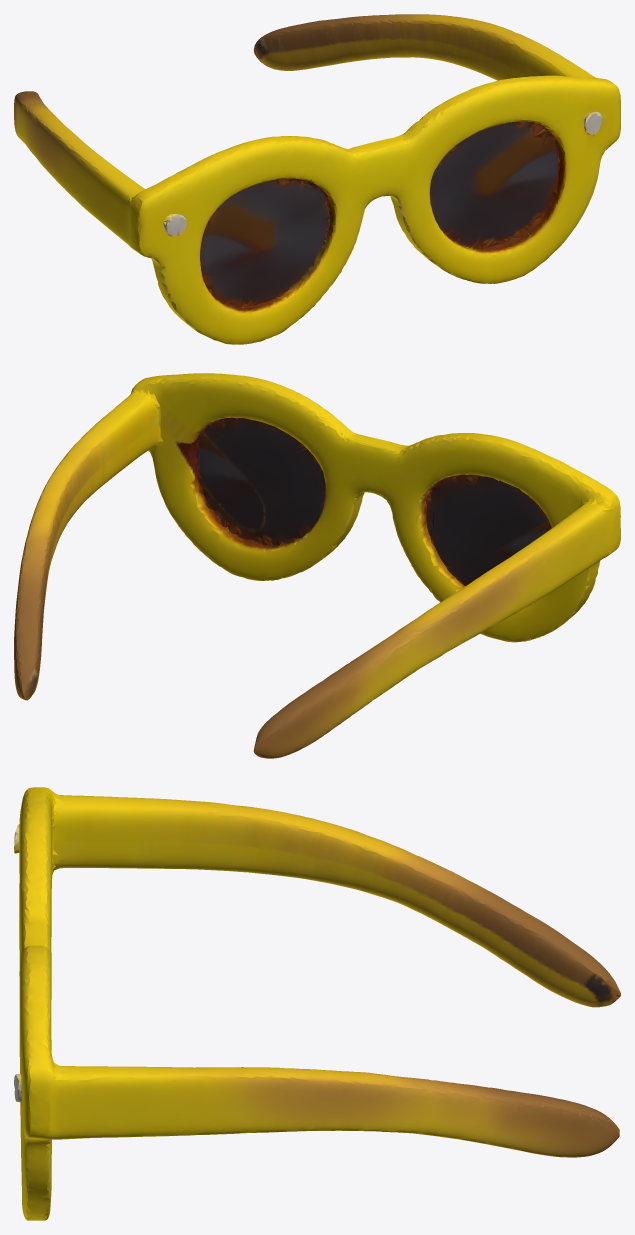
Rendered from glasses_yellow_hyper3d.glb.
The picture shows the model from 3 angles, top to bottom: view 1: azimuth 30°, elevation 25°; view 2: azimuth 150°, elevation 25°; view 3: azimuth 270°, elevation 25°; orthographic projection. The views are drawn at different scales.
Parts seen in each view (by area): view 1: GlassesYellow_Hyper3D; view 2: GlassesYellow_Hyper3D; view 3: GlassesYellow_Hyper3D.
Part boxes in pixels (x1=…): GlassesYellow_Hyper3D: x1=14, y1=14, x2=620, y2=344; GlassesYellow_Hyper3D: x1=14, y1=373, x2=620, y2=758; GlassesYellow_Hyper3D: x1=14, y1=787, x2=620, y2=1220.
Size of the model in its own units: 1.9 by 0.7407 by 1.69.
1 material, 1 textured.
